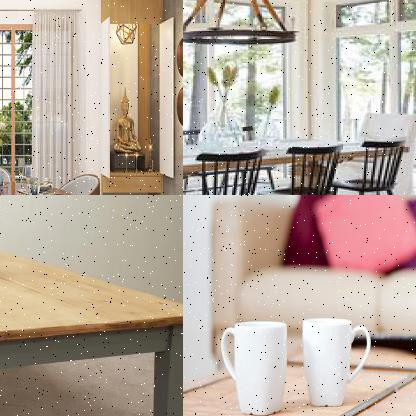table: (0, 234, 182, 415), (183, 320, 415, 415), (183, 134, 415, 194)
